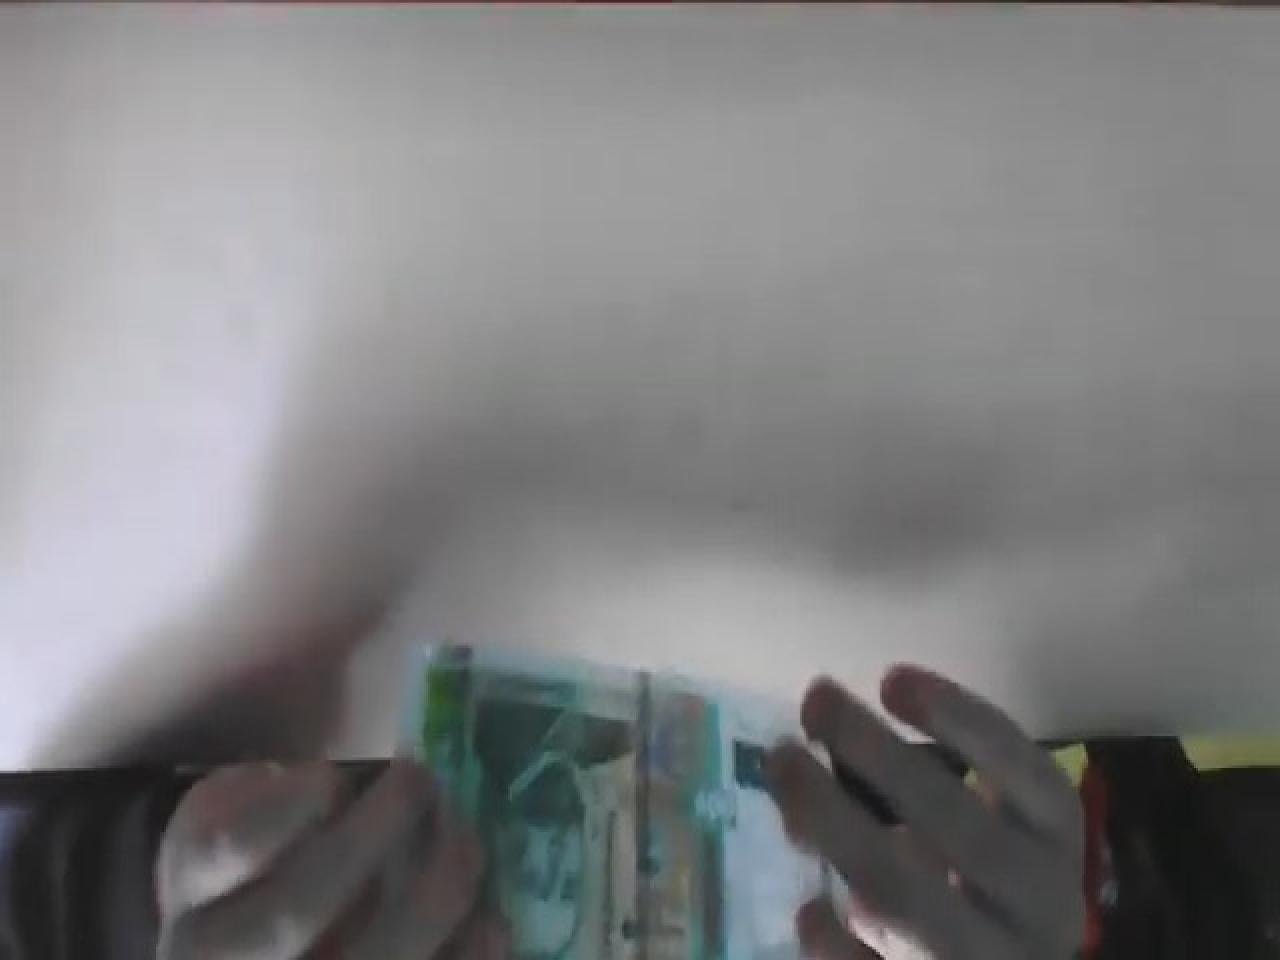100leva: (406, 643, 732, 960), (730, 736, 972, 832)
